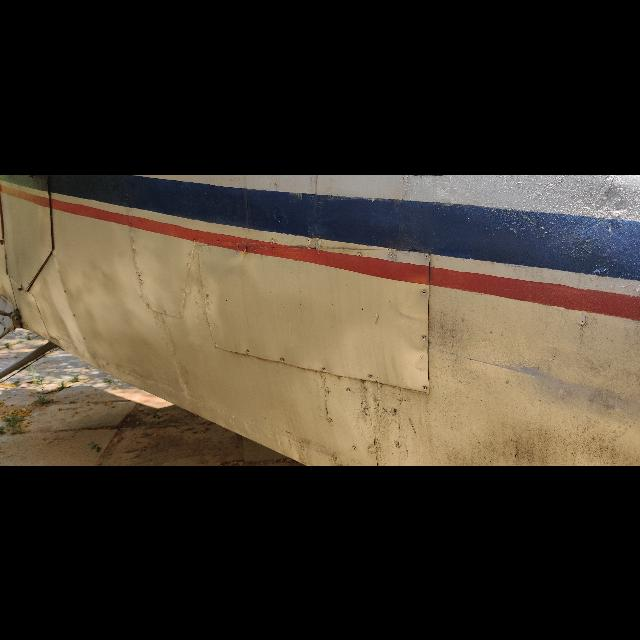dent: (583, 185, 631, 228), (391, 295, 425, 329)
